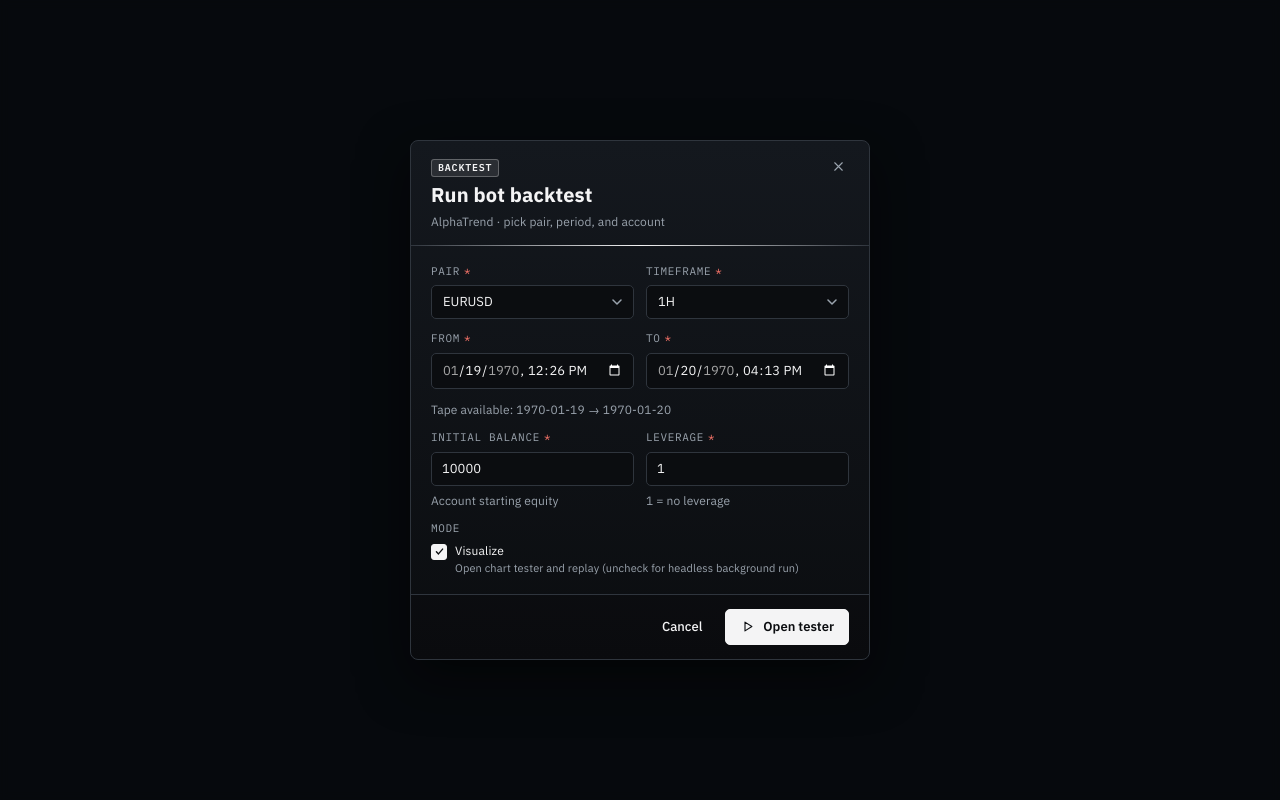
Test: Milestone 4 Empirical Adversarial Challenge Suite › 1. Checkbox Interactions & State Machine Stress Testing › validates BotBacktestModal visualize checkbox transitions and form submission
The width and height of the screenshot is (1280, 800).
Later steps or results of the test are not shown.
Expected: the button "Open tester" is shown, top-left (725, 609), bottom-right (849, 645)
# Uncheck visualize
Step 1. Click the checkbox named "visualize" → (446, 529), box top-left (431, 521), bottom-right (460, 537)
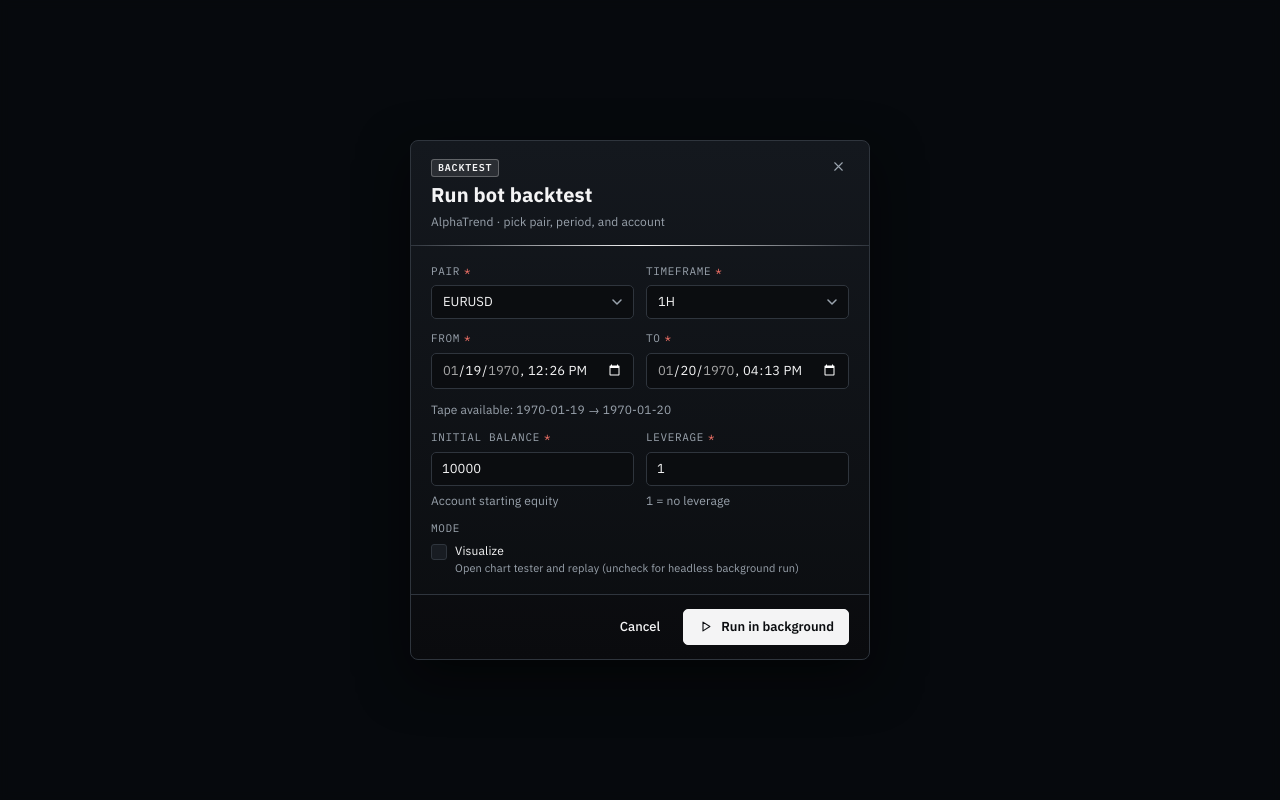
Expected: the form with id "bot-backtest-form" is shown, top-left (431, 264), bottom-right (849, 576)
Expected: the button "Run in background" is shown, top-left (683, 609), bottom-right (849, 645)
